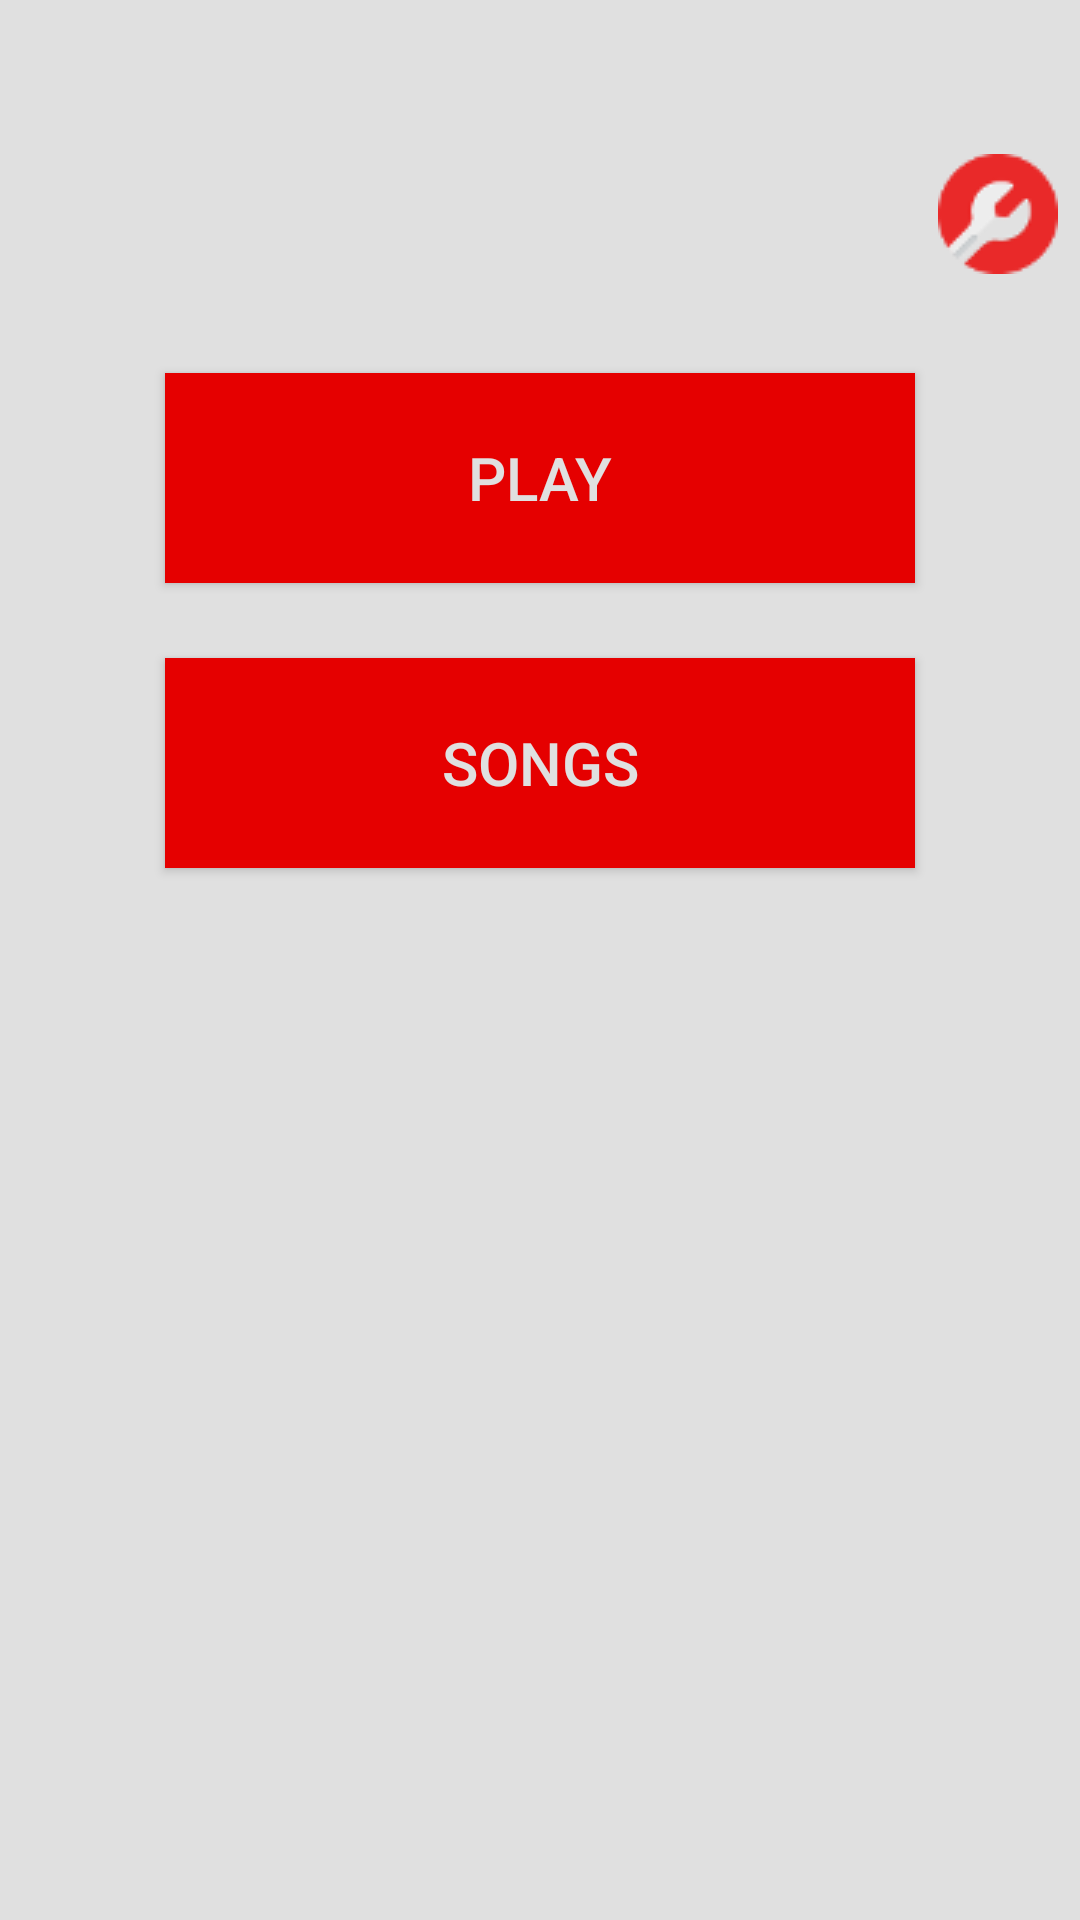

Icon click points for this 1080px x 1920px phone screenshot, format point (x, y):
wrench: point (998, 214)
